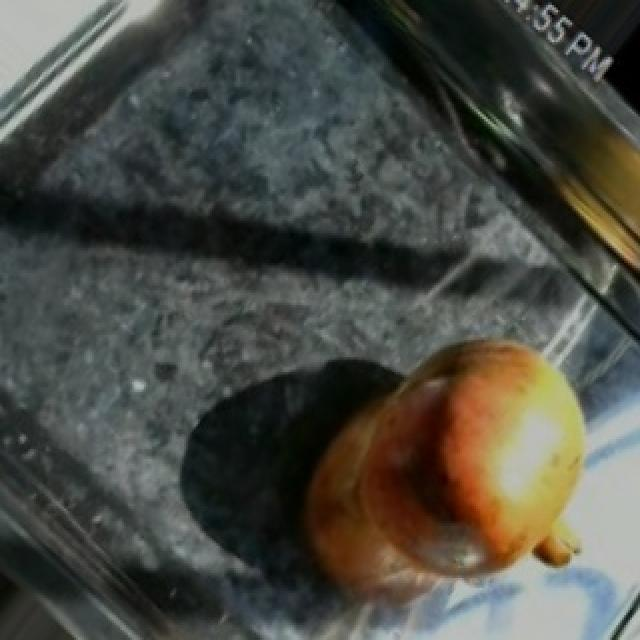fruit: (330, 308, 620, 570)
